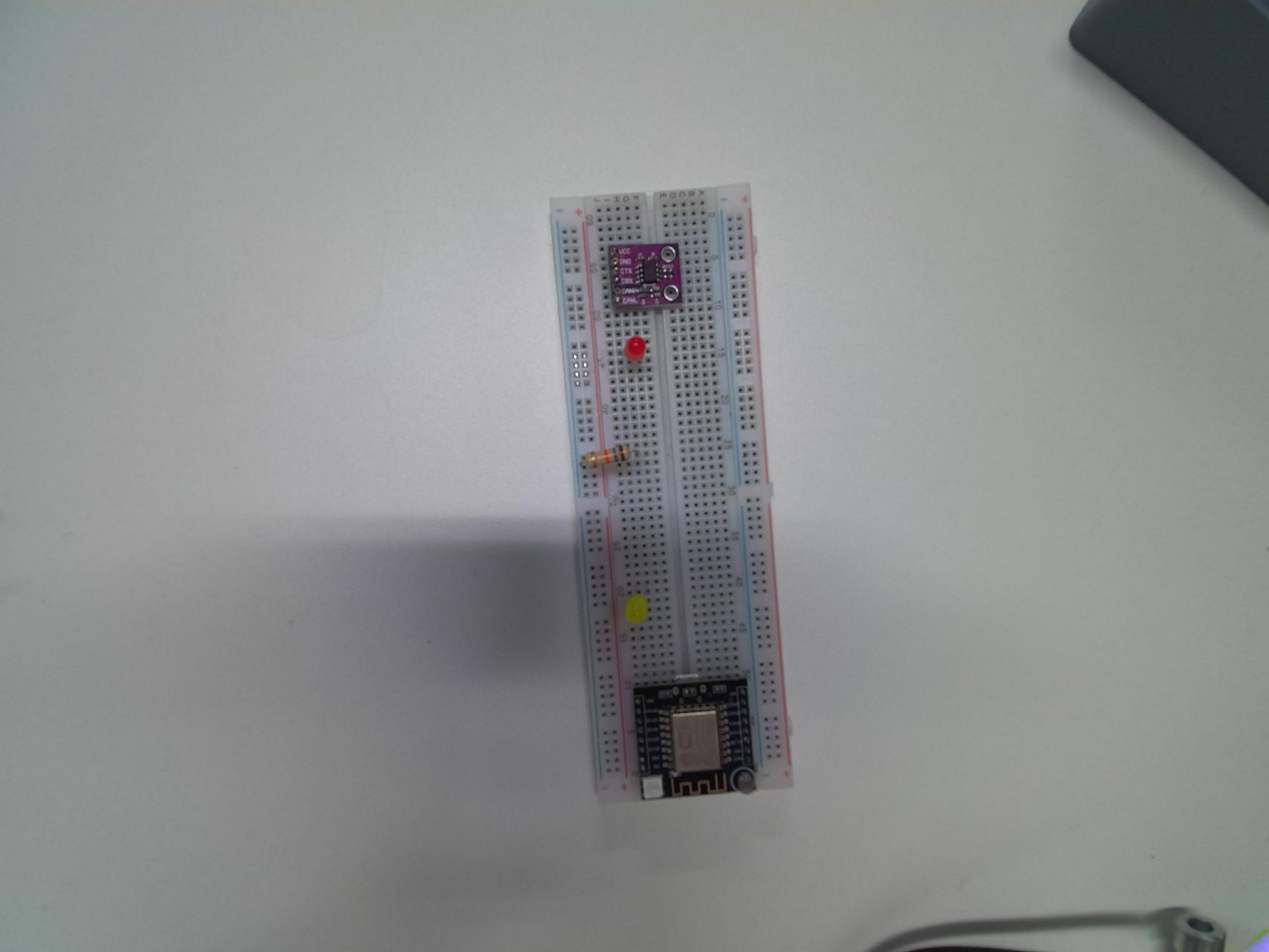base: (547, 144, 796, 809)
esp: (629, 665, 760, 806)
purple-board: (603, 242, 685, 314)
red-led: (623, 333, 646, 365)
resistor-big: (575, 445, 634, 470)
yellow-led: (618, 591, 649, 630)
